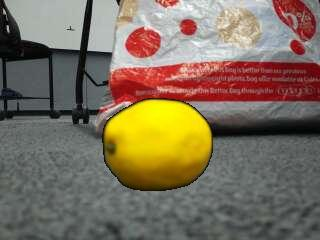lemon: (106, 100, 213, 190)
